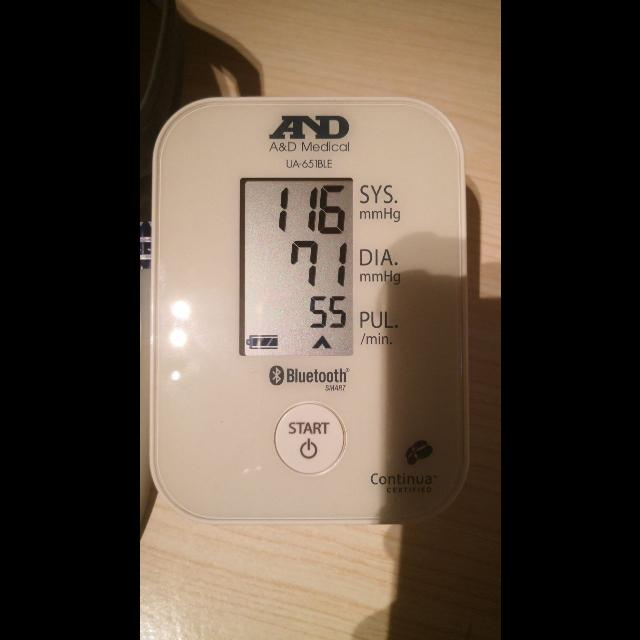Blood-Pressure-Monitor: (146, 99, 468, 524)
